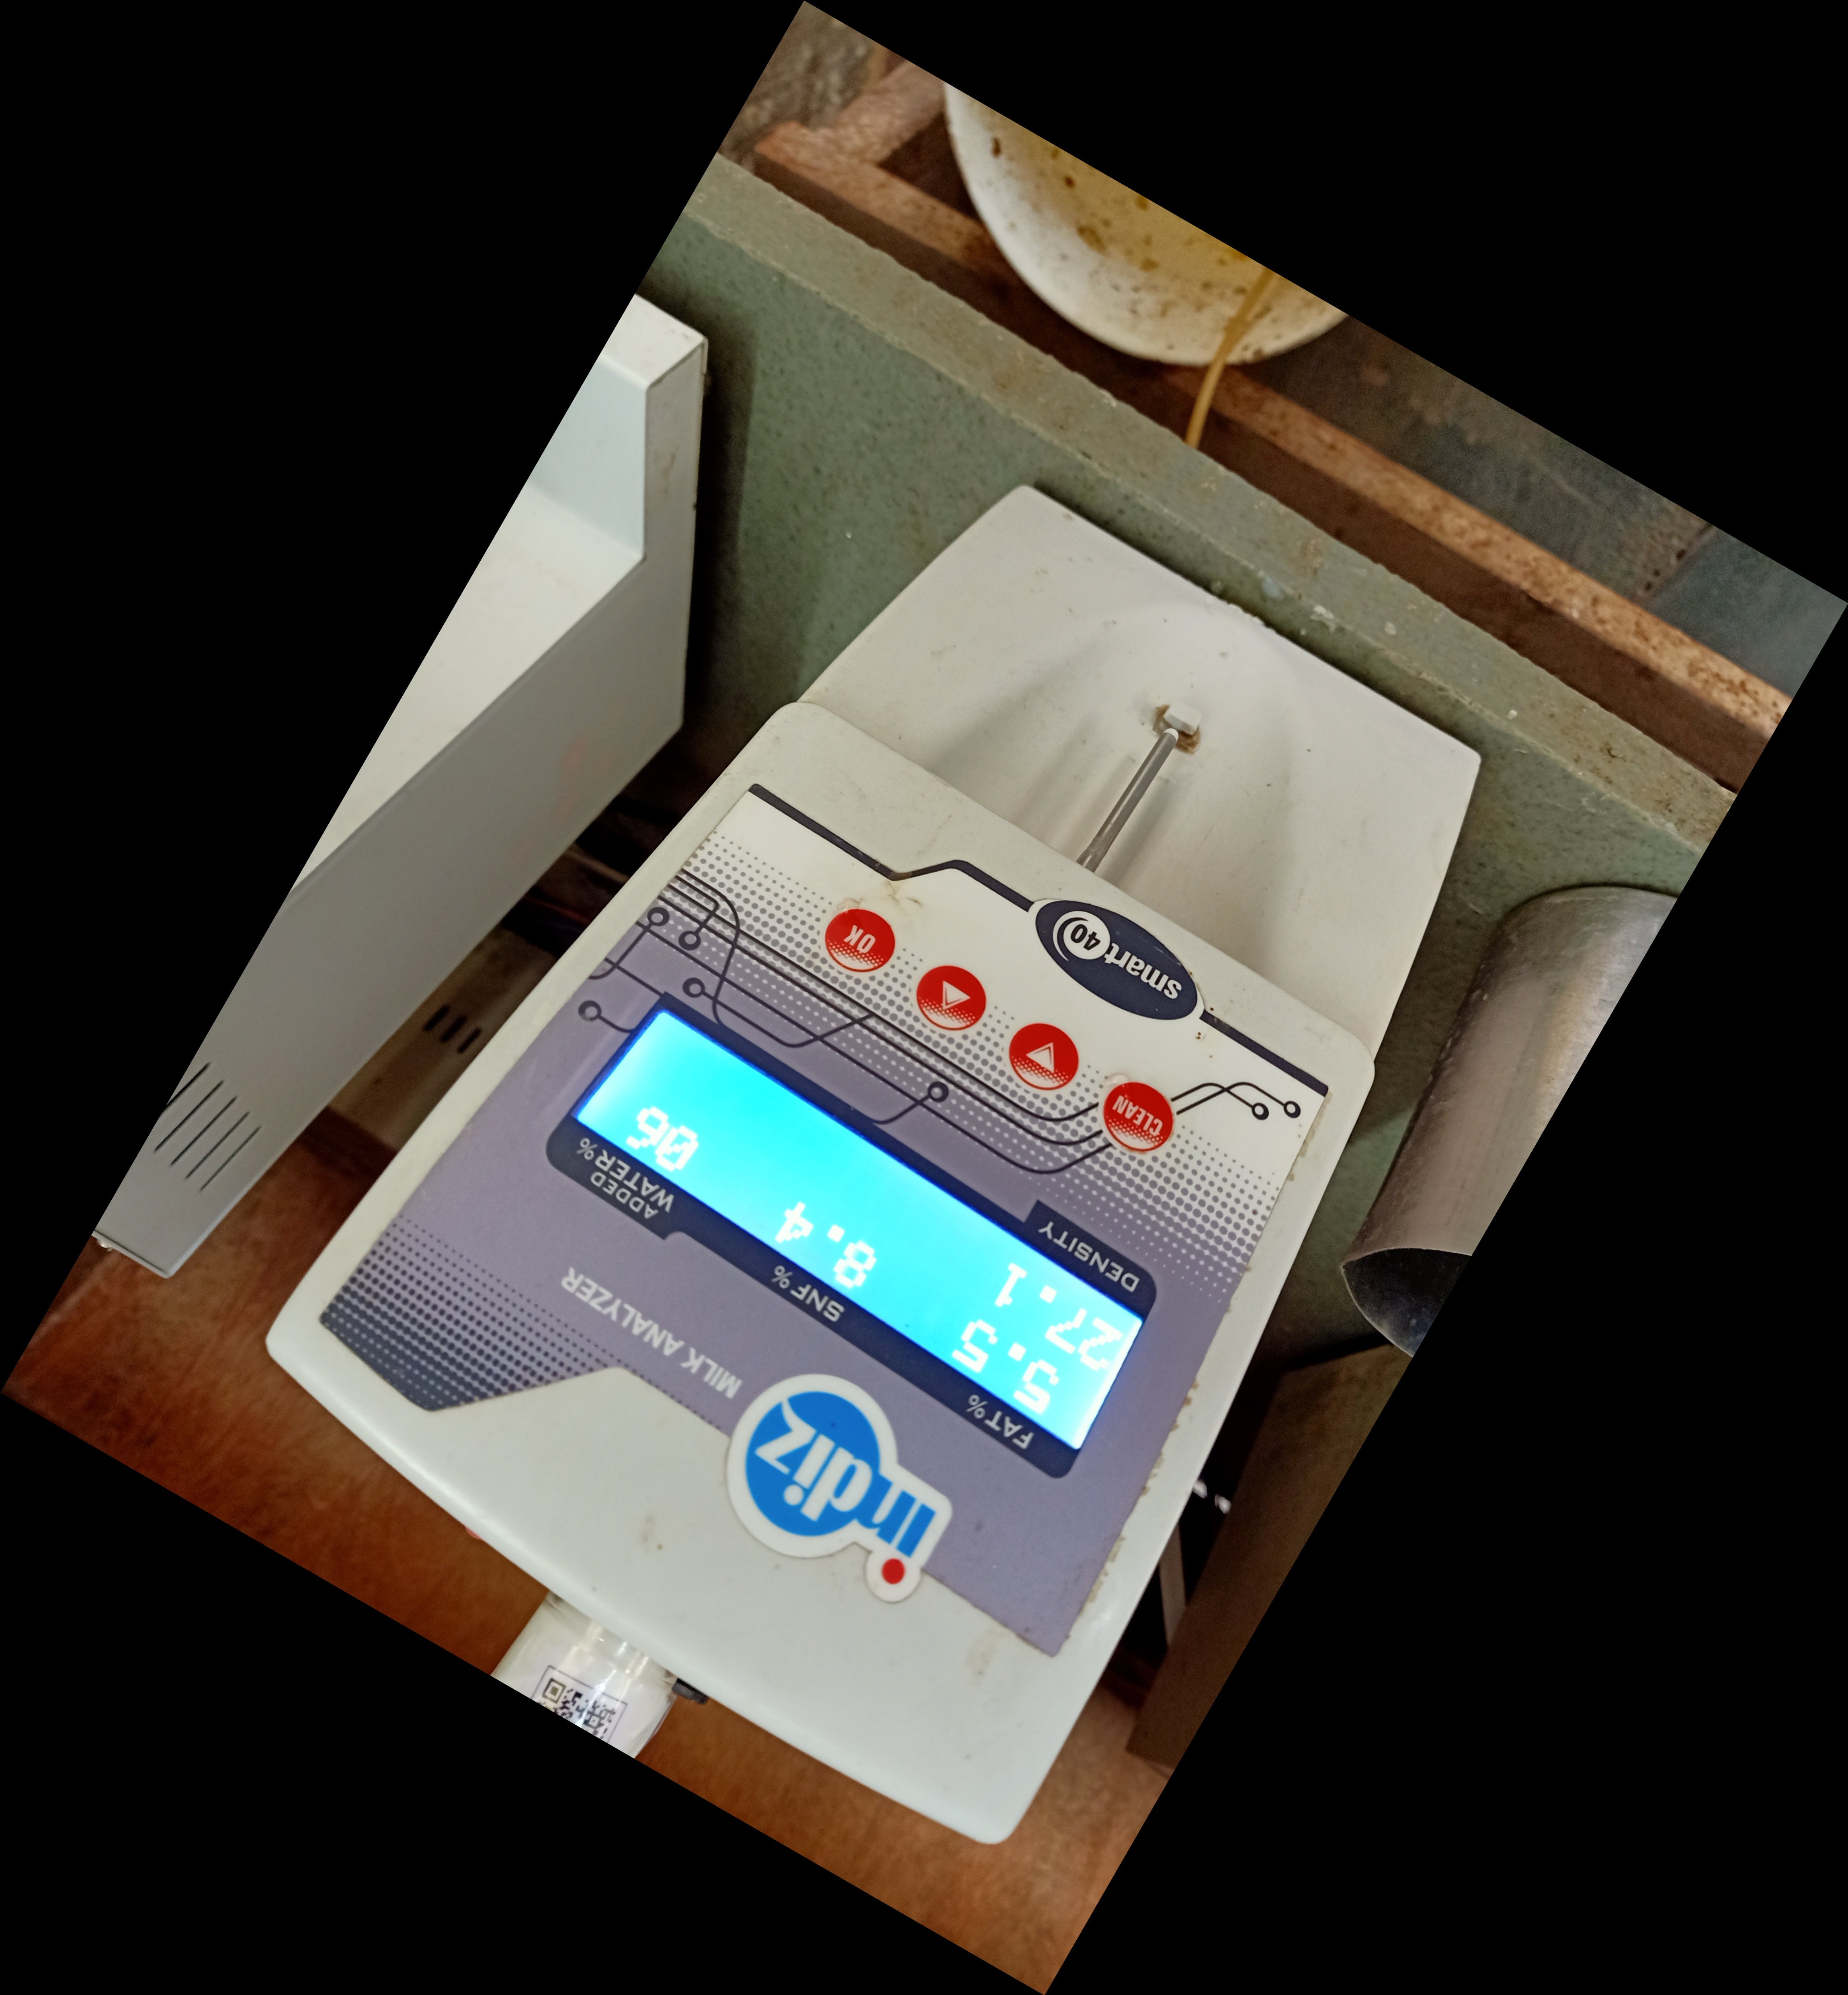lcd: (544, 1001, 1158, 1491)
